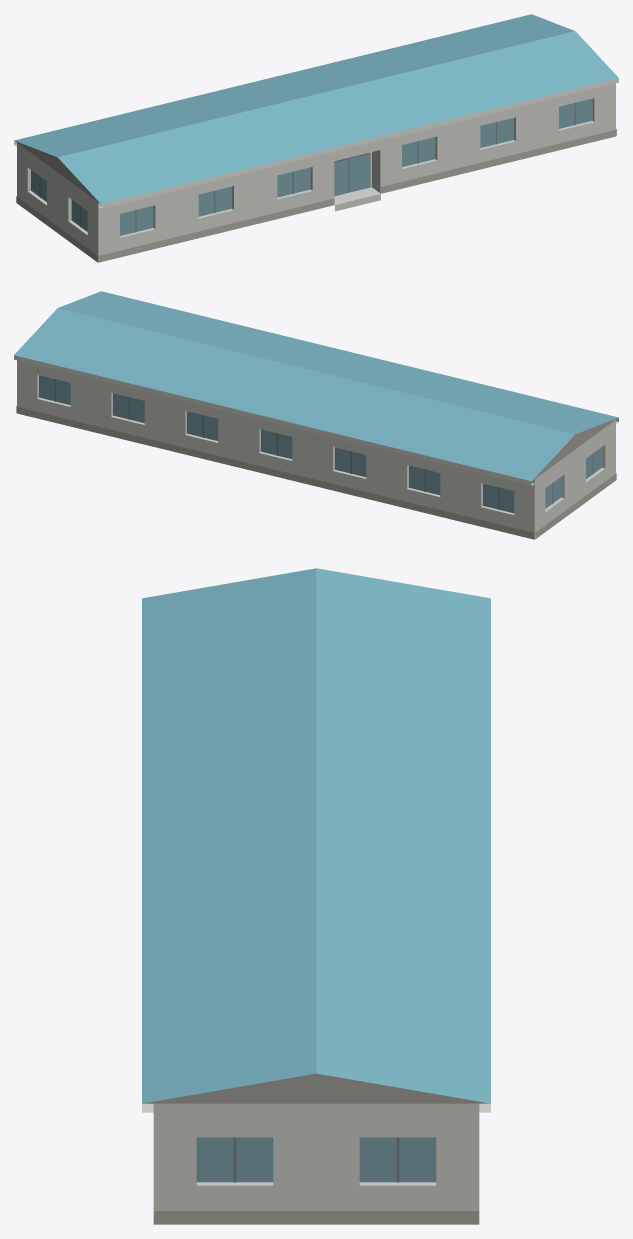
3 renders of one model, top to bottom at view 1: azimuth 30°, elevation 25°; view 2: azimuth 150°, elevation 25°; view 3: azimuth 270°, elevation 25°, orthographic. The views are drawn at different scales.
Parts seen in each view (by area): view 1: aux778946314__roofAccent, aux778946314__wall, aux778946314__glass, aux778946314__base, aux778946314__trim, aux778946314__wall2, aux778946314__entranceThreshold_0, aux778946314__frame; view 2: aux778946314__roofAccent, aux778946314__wall, aux778946314__glass, aux778946314__base, aux778946314__trim, aux778946314__wall2; view 3: aux778946314__roofAccent, aux778946314__wall, aux778946314__glass, aux778946314__wall2, aux778946314__base.
Part boxes in pixels (x1=…): aux778946314__roofAccent: x1=14, y1=14, x2=618, y2=204; aux778946314__wall: x1=17, y1=83, x2=615, y2=262; aux778946314__glass: x1=31, y1=98, x2=592, y2=235; aux778946314__base: x1=16, y1=129, x2=616, y2=262; aux778946314__trim: x1=14, y1=78, x2=618, y2=208; aux778946314__wall2: x1=15, y1=141, x2=100, y2=203; aux778946314__entranceThreshold_0: x1=334, y1=187, x2=380, y2=211; aux778946314__frame: x1=39, y1=102, x2=575, y2=232; aux778946314__roofAccent: x1=14, y1=291, x2=618, y2=481; aux778946314__wall: x1=17, y1=360, x2=615, y2=539; aux778946314__glass: x1=39, y1=375, x2=601, y2=513; aux778946314__base: x1=16, y1=406, x2=616, y2=539; aux778946314__trim: x1=14, y1=355, x2=618, y2=485; aux778946314__wall2: x1=532, y1=418, x2=617, y2=480; aux778946314__roofAccent: x1=142, y1=568, x2=490, y2=1103; aux778946314__wall: x1=153, y1=1103, x2=479, y2=1210; aux778946314__glass: x1=196, y1=1137, x2=436, y2=1182; aux778946314__wall2: x1=143, y1=1073, x2=489, y2=1103; aux778946314__base: x1=153, y1=1211, x2=479, y2=1224.
Size of the model in its own units: 36.07 by 5.4 by 10.51.
